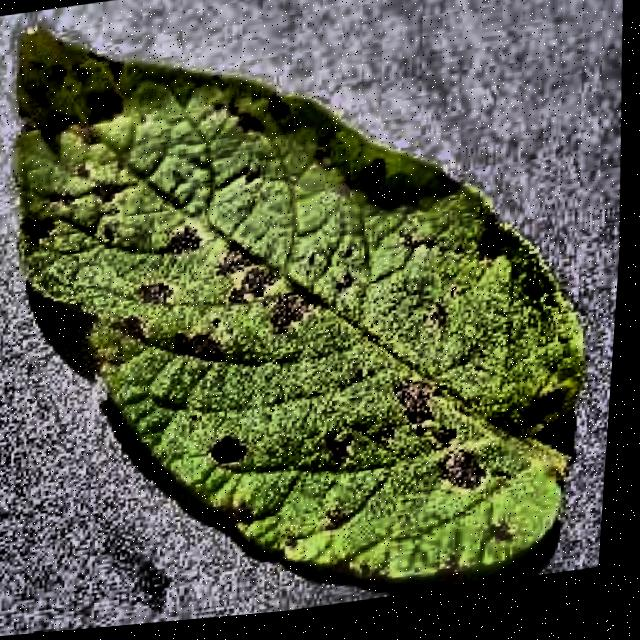Potato_leaf_early_blight: (0, 16, 599, 601)
